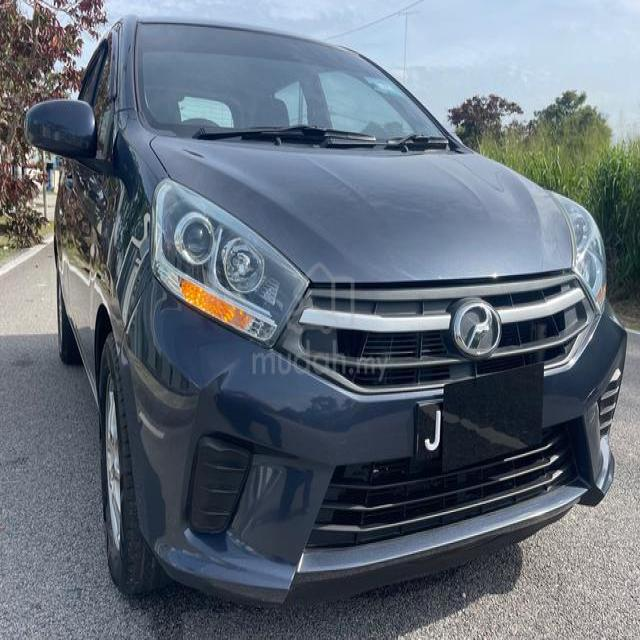PeroduaAxia: (25, 12, 627, 608)
